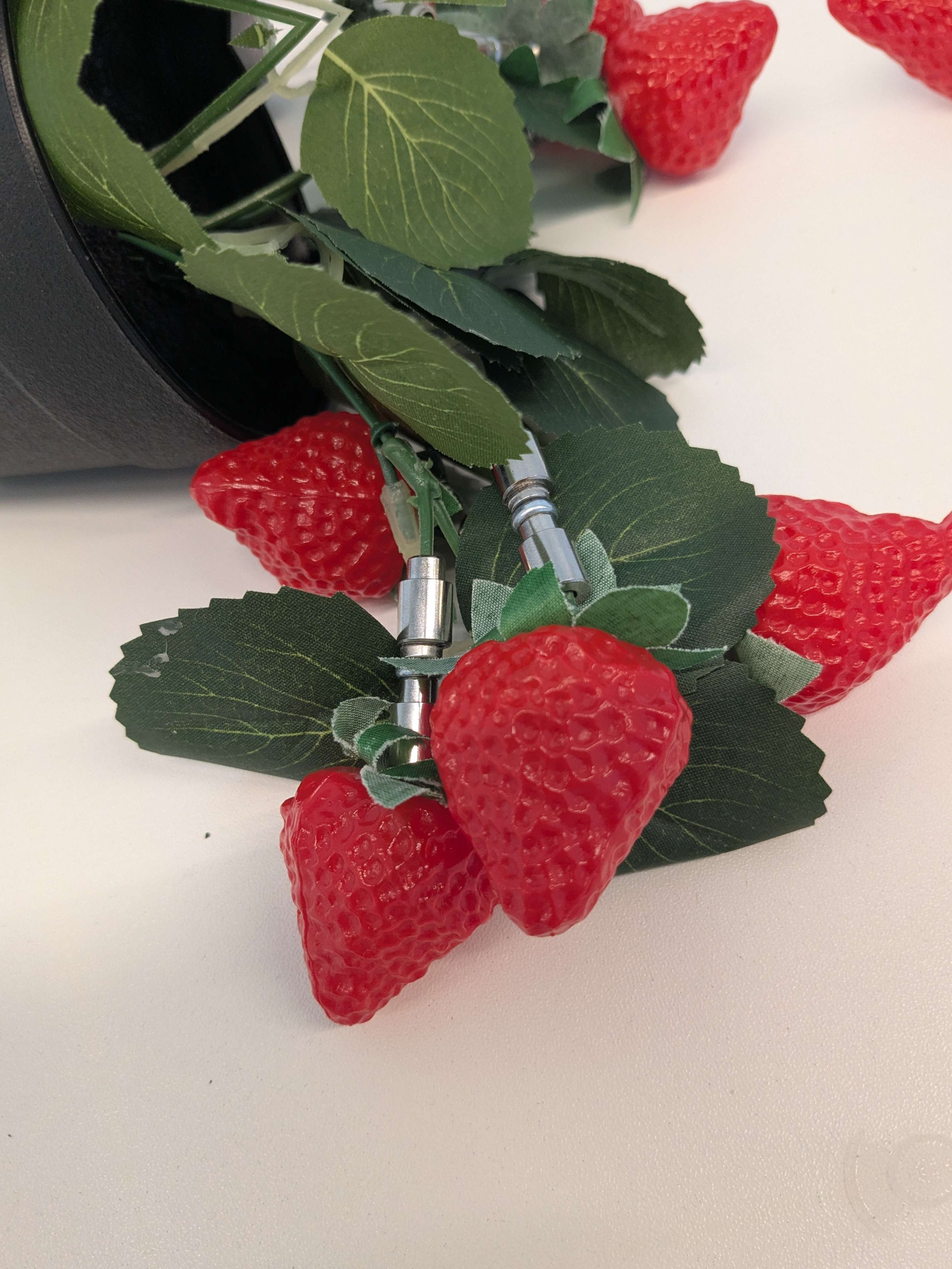Strawberry: (402, 590, 732, 972), (218, 698, 542, 1061), (678, 441, 952, 749), (165, 390, 439, 651), (562, 0, 841, 230)
